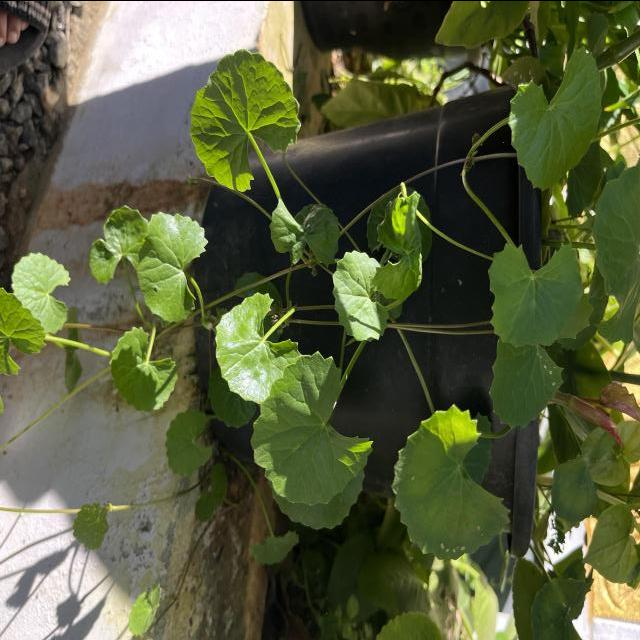Centella asiatica: (248, 347, 378, 508), (186, 44, 304, 194), (505, 42, 605, 193), (486, 235, 588, 349), (212, 287, 304, 406), (134, 208, 210, 325), (330, 247, 394, 345)
